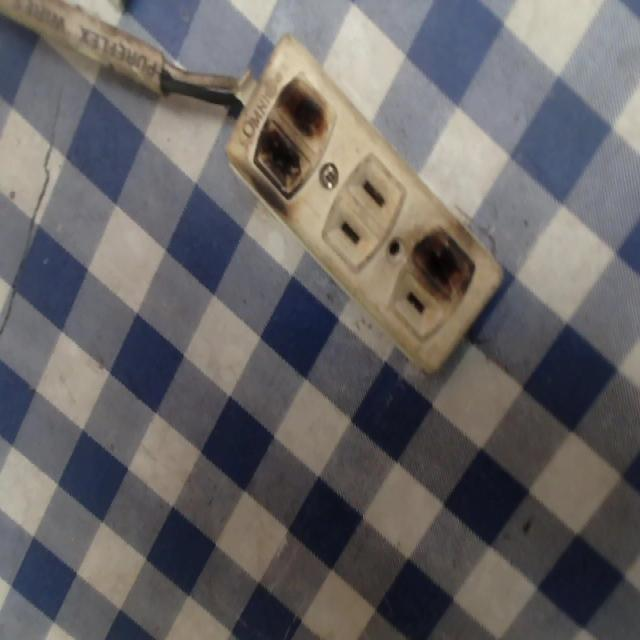-: (244, 72, 336, 205), (404, 222, 476, 306)
